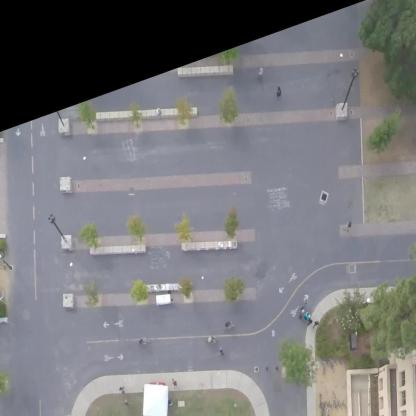Bicyclist: (137, 336, 153, 347), (223, 320, 236, 331), (206, 336, 218, 346)
Pedestrian: (123, 396, 134, 415), (215, 342, 225, 360), (170, 374, 180, 390), (276, 81, 284, 98), (343, 217, 352, 232), (116, 384, 128, 395), (154, 106, 163, 118), (258, 65, 264, 78), (307, 315, 314, 326), (304, 311, 310, 323), (314, 318, 320, 330), (299, 307, 306, 317)
